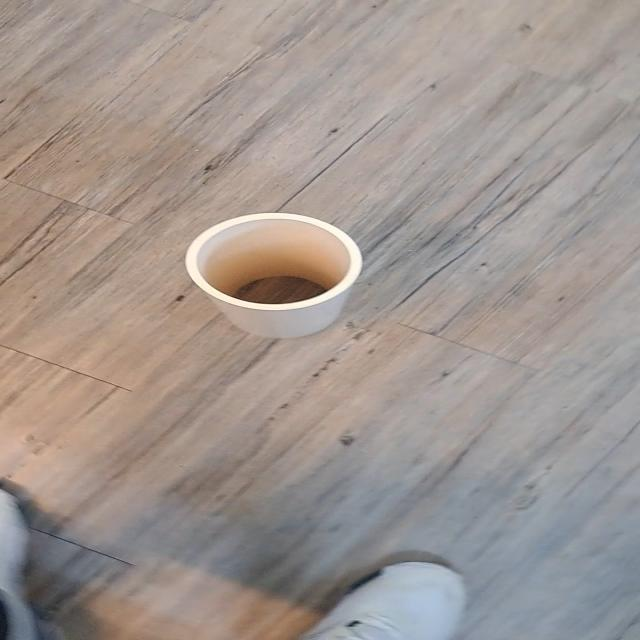CORAL: (152, 200, 397, 350)
